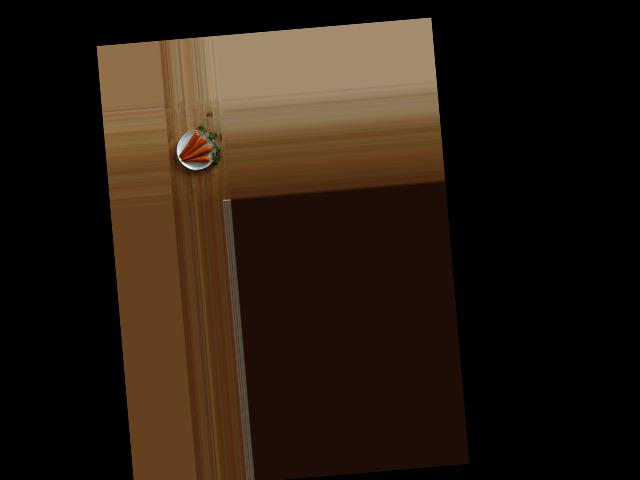carrot: (175, 130, 203, 156)
